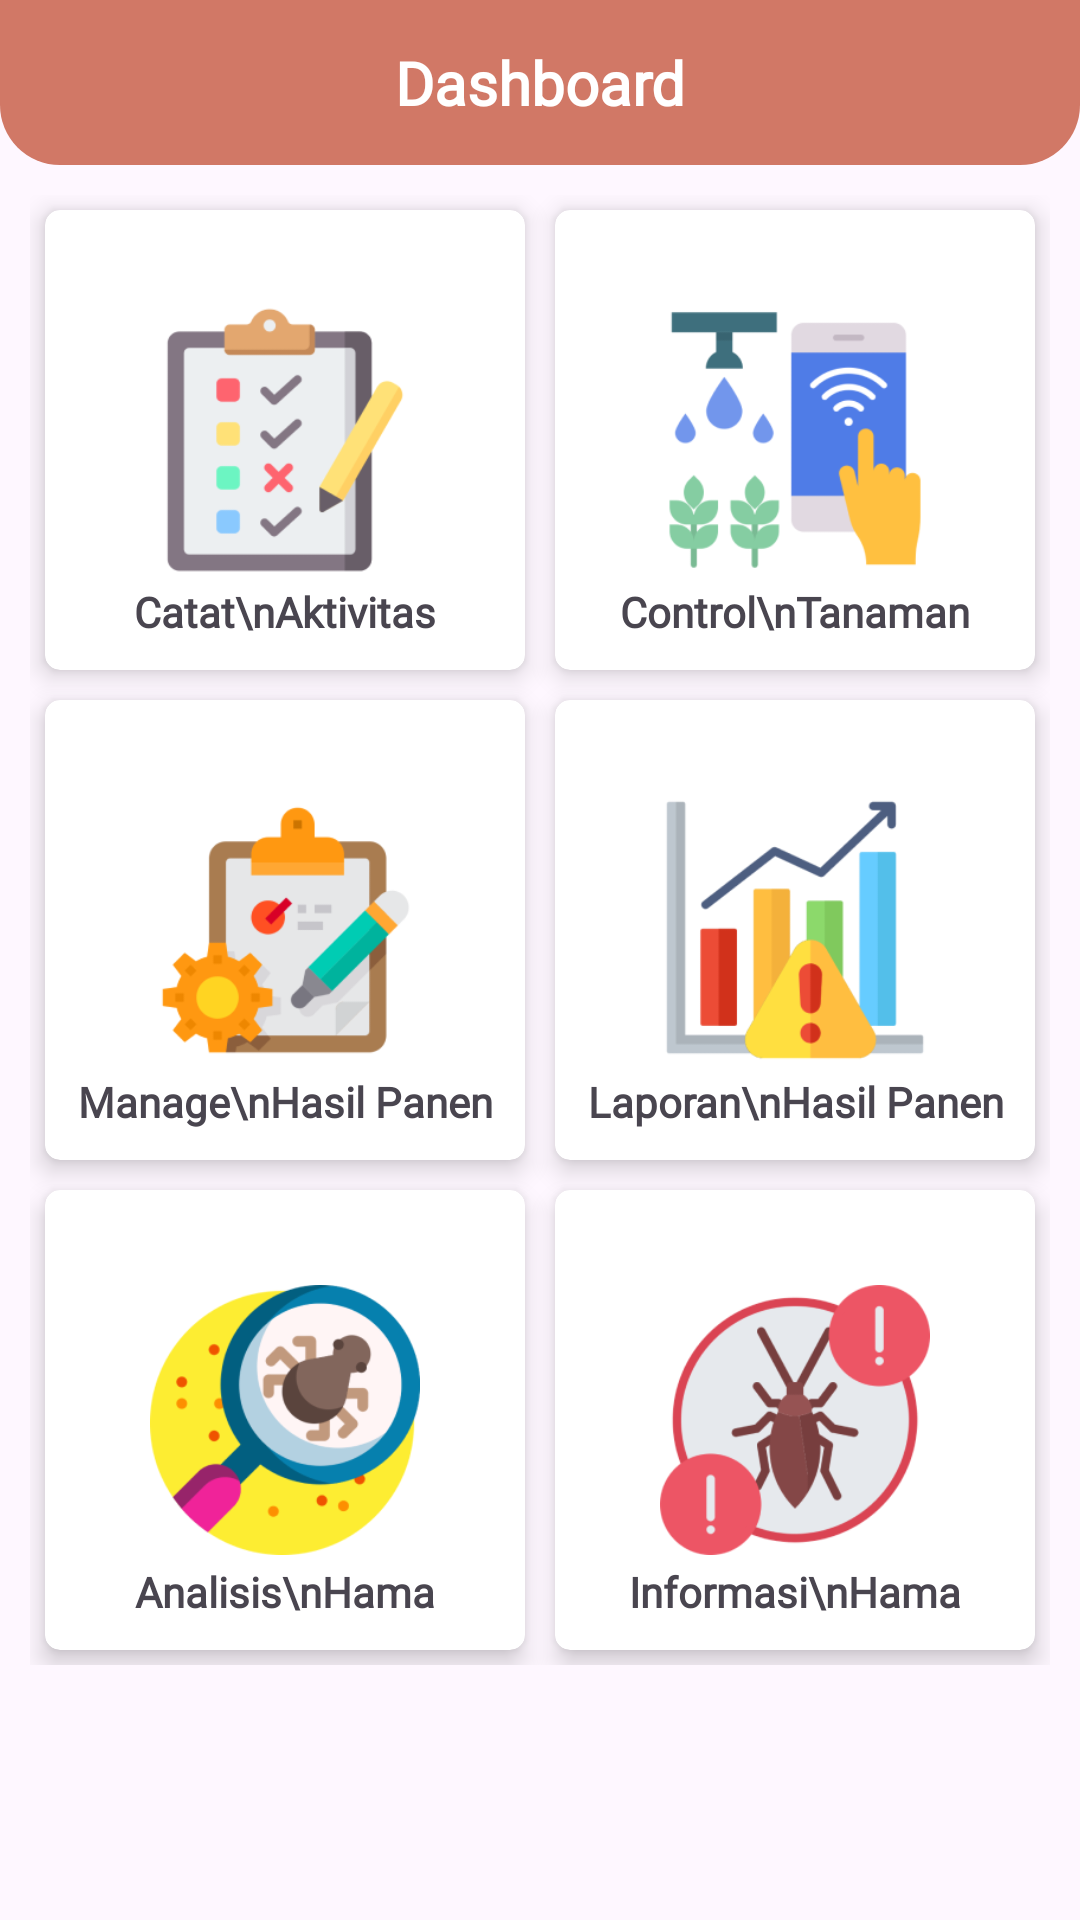

Icon click points for this 1080px x 1920px phone screenshot, format (x=x, y=y):
cockroach: (x=795, y=1420)
growth: (x=795, y=930)
parasite: (x=285, y=1420)
smartfarm: (x=795, y=440)
